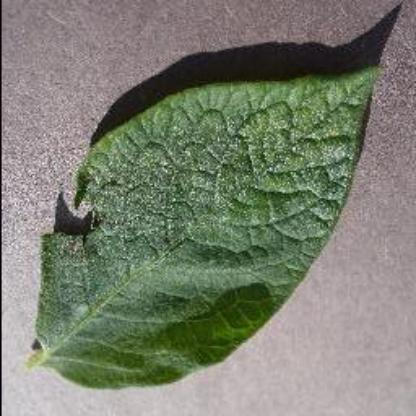Healthy-plant: (27, 37, 401, 400)
